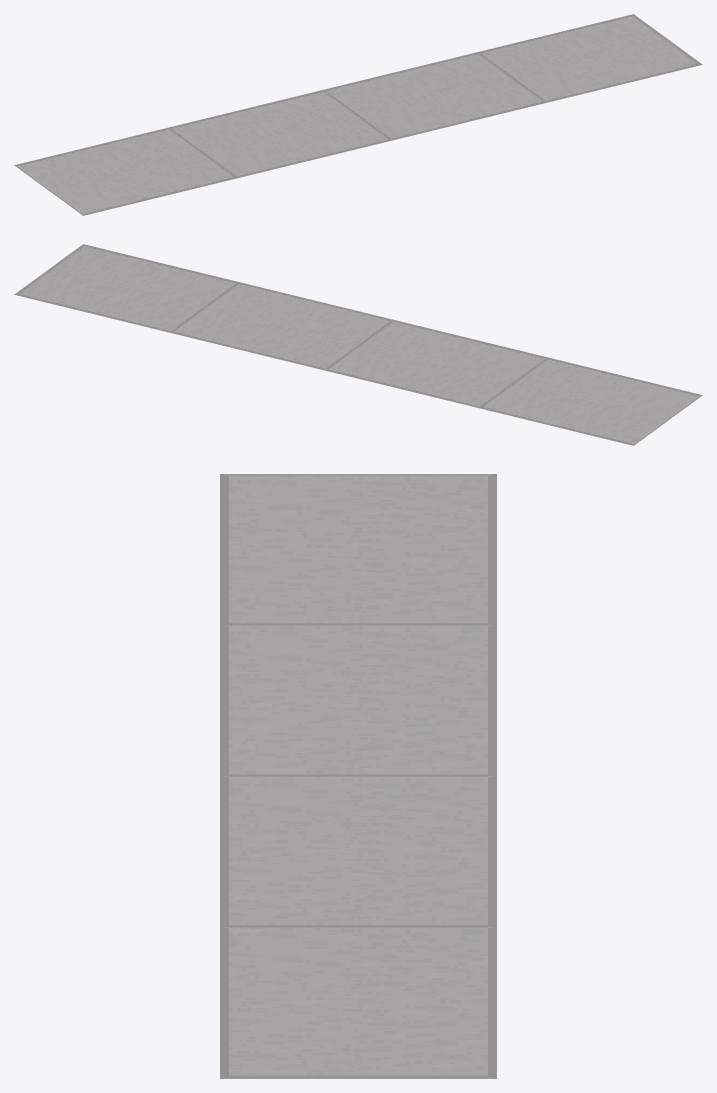
Rendered from kd_stage_135ded_4_129_bounded_piece_5.glb.
The picture shows the model from 3 angles, top to bottom: view 1: azimuth 30°, elevation 25°; view 2: azimuth 150°, elevation 25°; view 3: azimuth 270°, elevation 25°; orthographic projection. The views are drawn at different scales.
Parts seen in each view (by area): view 1: kd_stage_135ded_4_129_bounded_piece_5; view 2: kd_stage_135ded_4_129_bounded_piece_5; view 3: kd_stage_135ded_4_129_bounded_piece_5.
Part boxes in pixels (x1=…): kd_stage_135ded_4_129_bounded_piece_5: x1=14, y1=14, x2=702, y2=215; kd_stage_135ded_4_129_bounded_piece_5: x1=14, y1=244, x2=702, y2=445; kd_stage_135ded_4_129_bounded_piece_5: x1=220, y1=474, x2=496, y2=1078.
Bounding box in the file's own units: 4.53 × 5.96e-08 × 0.8777.
1 material, 1 textured.
